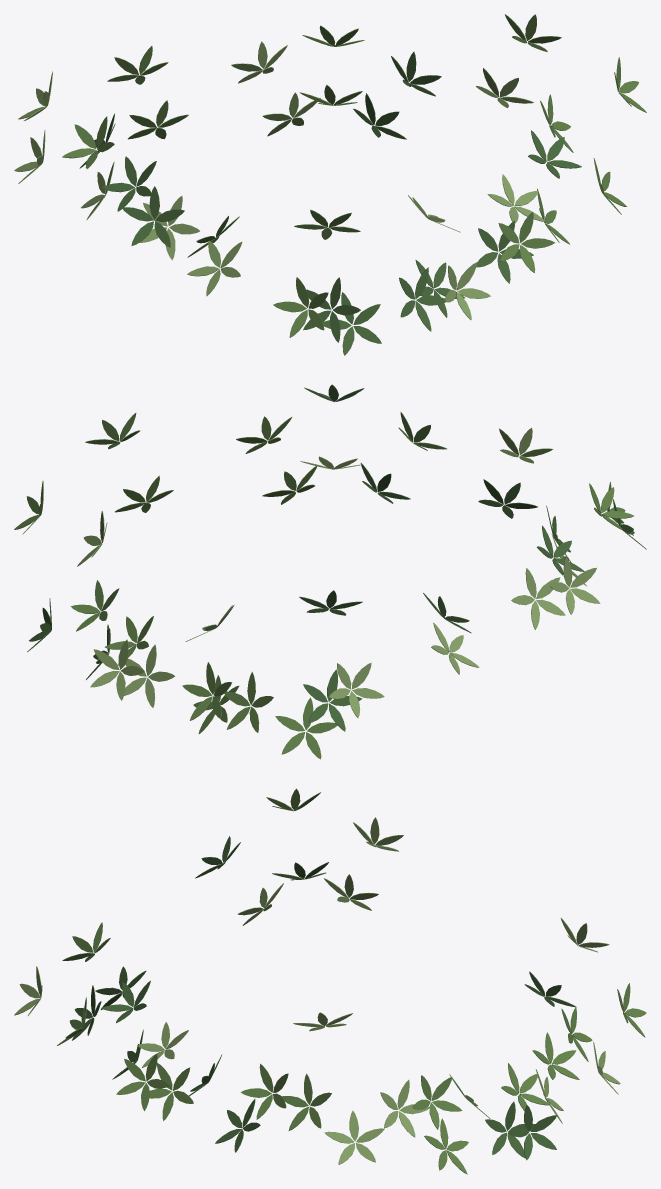
The model's file is prayer-tree-forks.glb.
3 renders of one model, top to bottom at view 1: azimuth 30°, elevation 25°; view 2: azimuth 150°, elevation 25°; view 3: azimuth 270°, elevation 25°, orthographic. The views are drawn at different scales.
Size of the model in its own units: 3.17 by 1.41 by 3.28.
